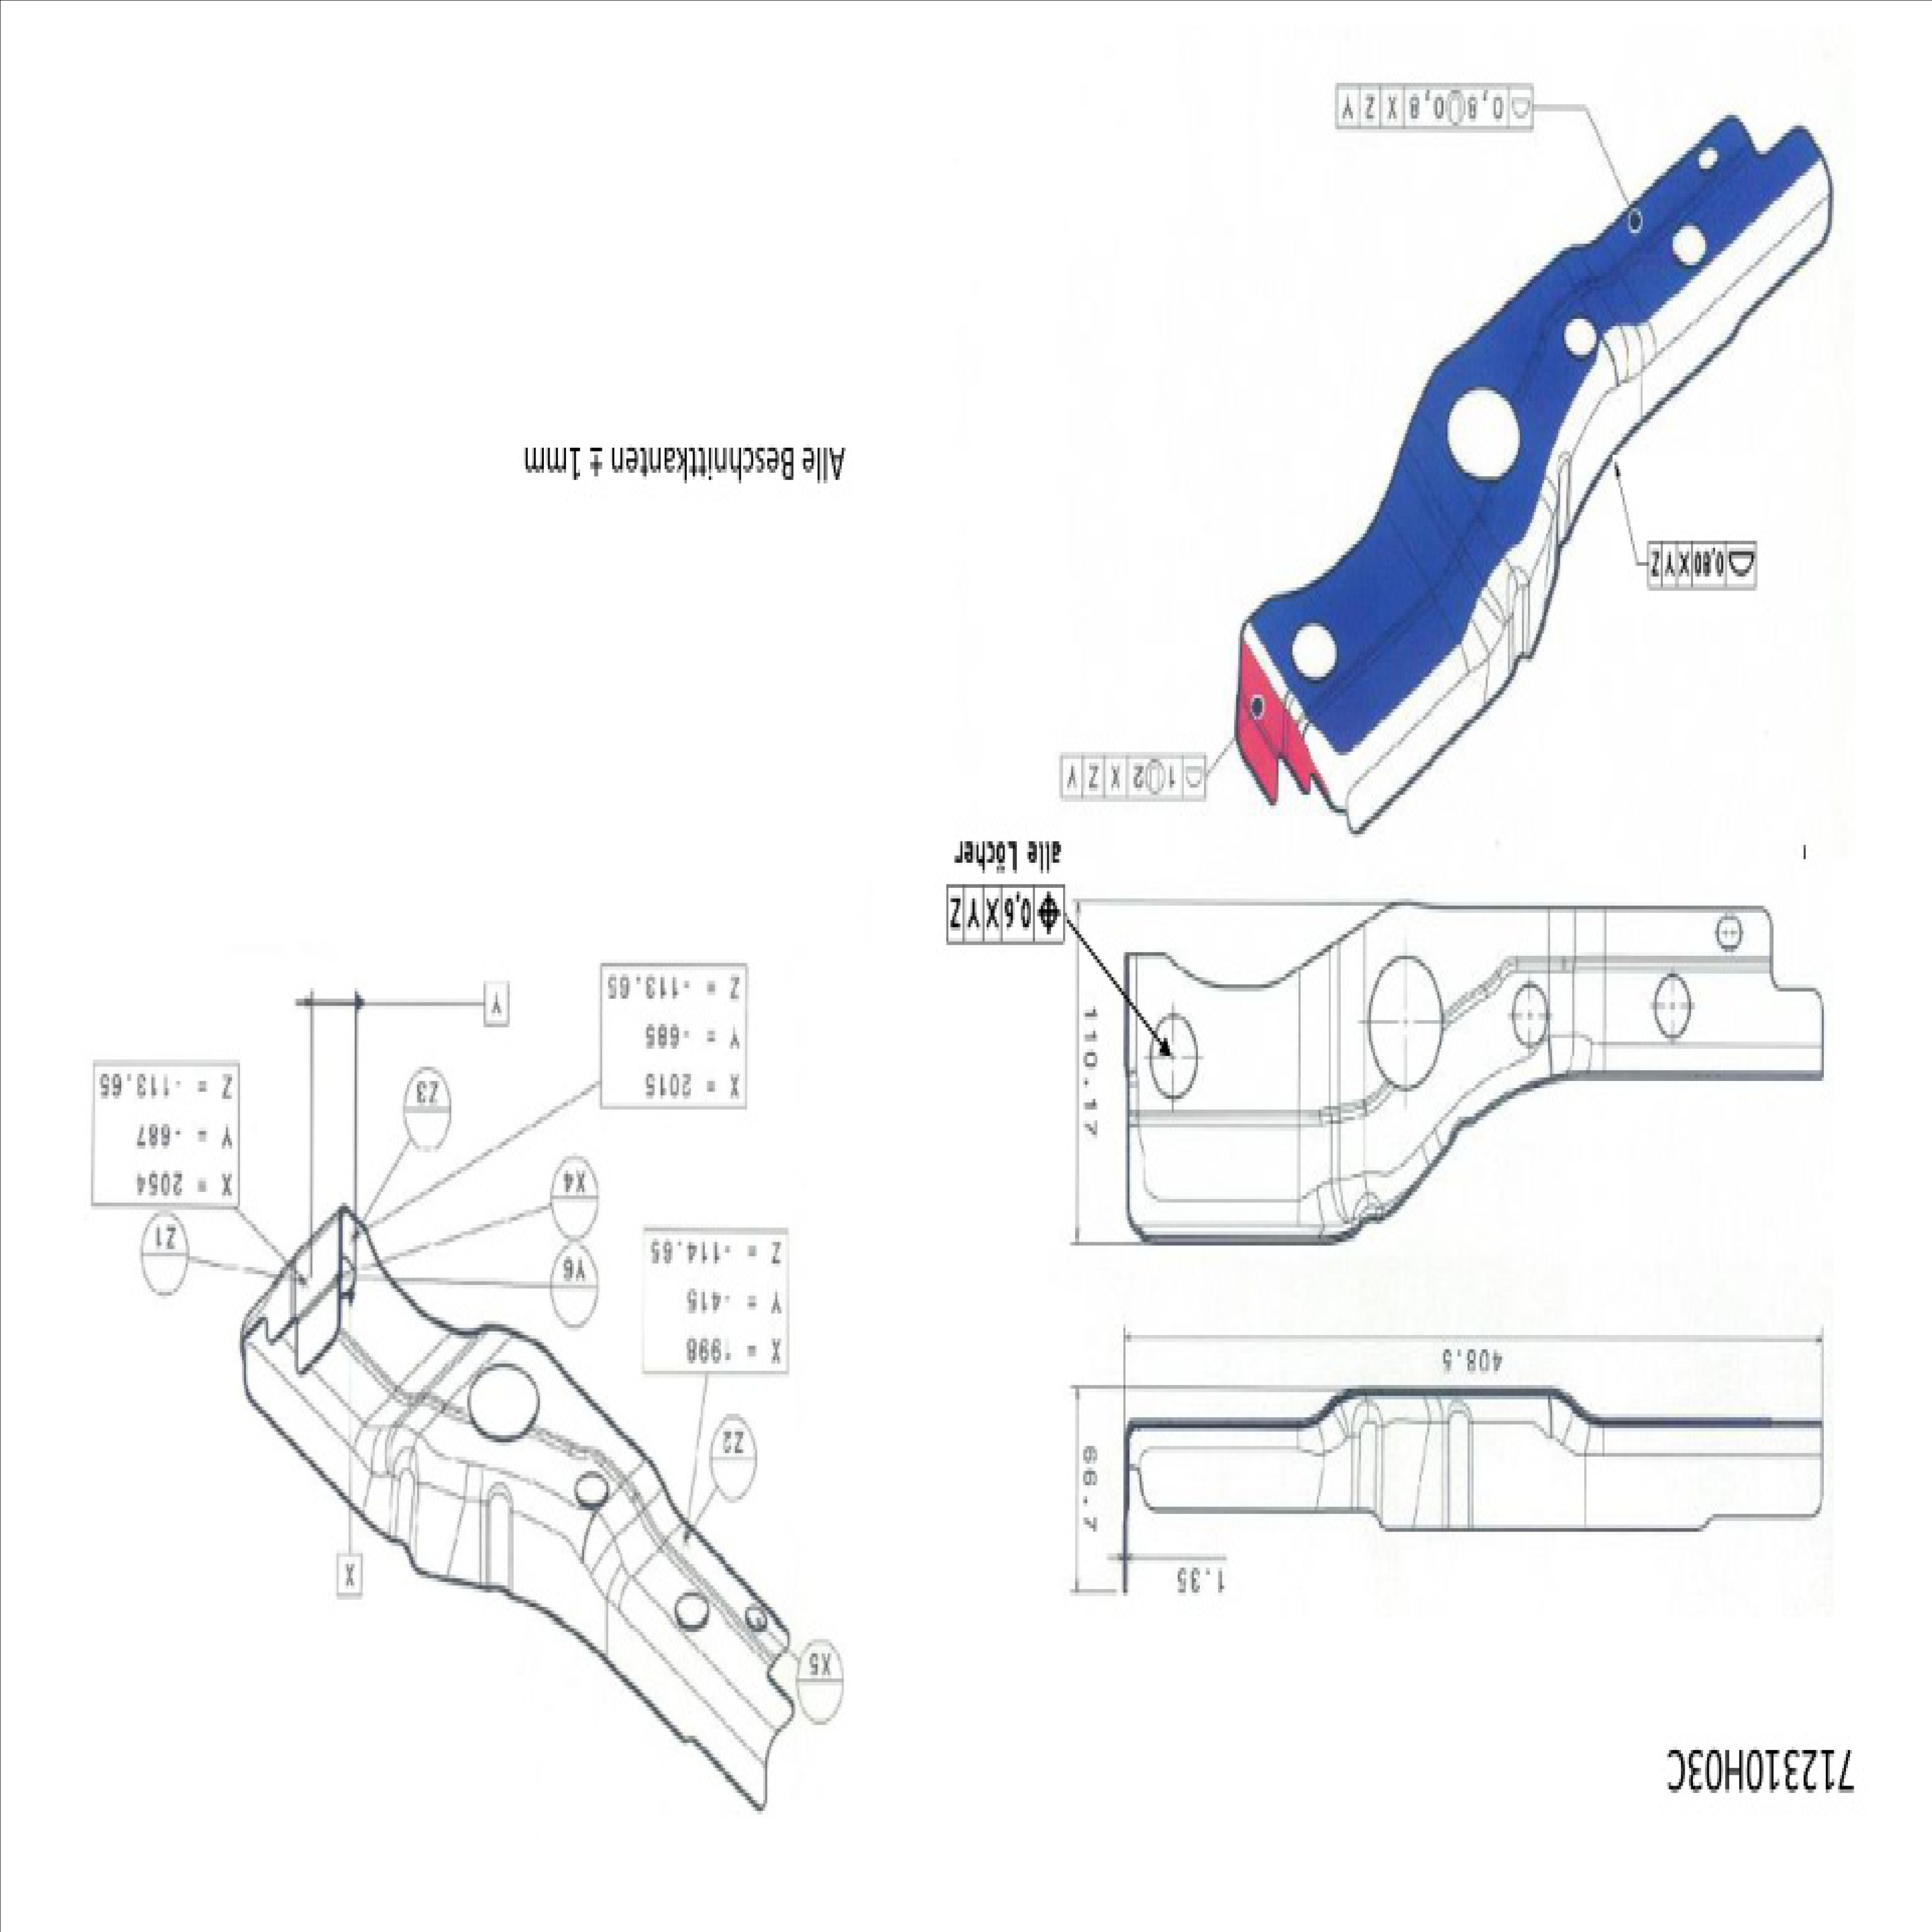InnerContour: (1368, 952, 1444, 1095), (1445, 384, 1523, 487), (467, 1361, 545, 1445), (1146, 1010, 1201, 1102), (1652, 970, 1697, 1042), (1286, 619, 1338, 681), (1511, 980, 1552, 1049), (1670, 223, 1709, 269), (1562, 315, 1599, 361), (575, 1468, 610, 1509), (674, 1592, 709, 1629), (1716, 913, 1744, 952), (745, 1603, 768, 1629), (1698, 143, 1718, 170)
Reinforcement: (1343, 1399, 1391, 1527), (1440, 1394, 1477, 1534), (384, 1442, 425, 1555), (479, 1483, 517, 1592), (1504, 566, 1530, 672), (1352, 1189, 1387, 1223)
